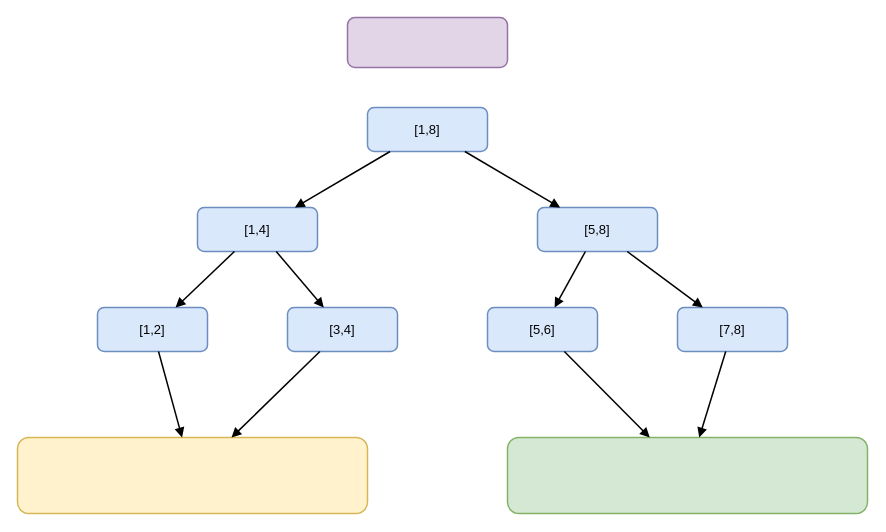
Image size: 886x532. Some labels were removed from this diagram. Here are the shapes that lost their labels. From the top down, the centre of each, then its label:
(x=427, y=42): 数组 a[1..8]
(x=192, y=475): 线段树：区间信息递归合并 查询/更新 O(logn)
(x=687, y=475): 树状数组：lowbit 跳段 前缀和/单点更新 O(logn)
